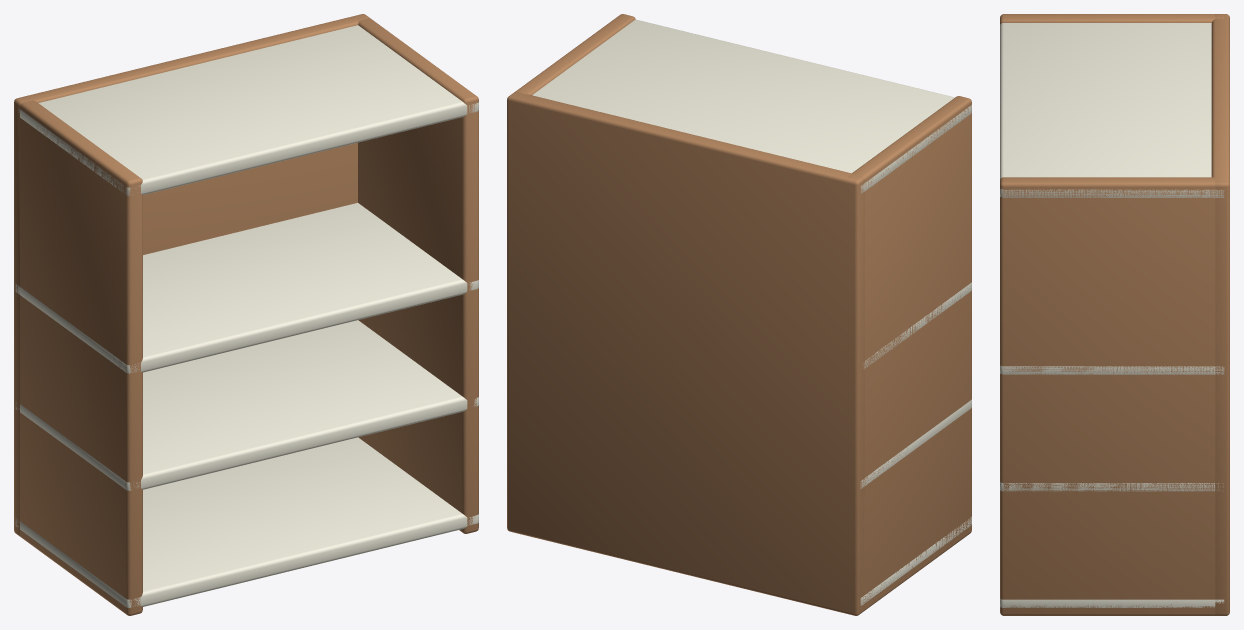
Rendered from service_food_cabinet.glb.
The picture shows the model from 3 angles, left to right: view 1: azimuth 30°, elevation 25°; view 2: azimuth 150°, elevation 25°; view 3: azimuth 270°, elevation 25°; orthographic projection.
Visible parts, largest first — view 1: Cube.001, Cube.006, Cube.005, Cube.003, Cube.004, Cube.002, Cube; view 2: Cube, Cube.001, Cube.006, Cube.002, Cube.004, Cube.003, Cube.005; view 3: Cube.002, Cube.006, Cube, Cube.005, Cube.003, Cube.001, Cube.004.
Boxes of the visible parts, x1,y1,x2,y2 form: Cube.001: [19, 97, 142, 615]; Cube.006: [18, 25, 478, 195]; Cube.005: [15, 203, 478, 373]; Cube.003: [15, 437, 478, 607]; Cube.004: [15, 320, 478, 490]; Cube.002: [358, 16, 478, 533]; Cube: [14, 14, 369, 536]; Cube: [507, 92, 864, 615]; Cube.001: [848, 96, 971, 612]; Cube.006: [532, 19, 971, 193]; Cube.002: [515, 14, 635, 96]; Cube.004: [860, 399, 971, 488]; Cube.003: [860, 516, 971, 605]; Cube.005: [862, 282, 971, 369]; Cube.002: [1000, 177, 1224, 615]; Cube.006: [1000, 23, 1224, 197]; Cube: [1211, 14, 1229, 615]; Cube.005: [1000, 365, 1224, 374]; Cube.003: [1000, 598, 1224, 607]; Cube.001: [1000, 14, 1223, 24]; Cube.004: [1000, 482, 1223, 491].
Size of the model in its own units: 1.1 by 1.3 by 0.625.
